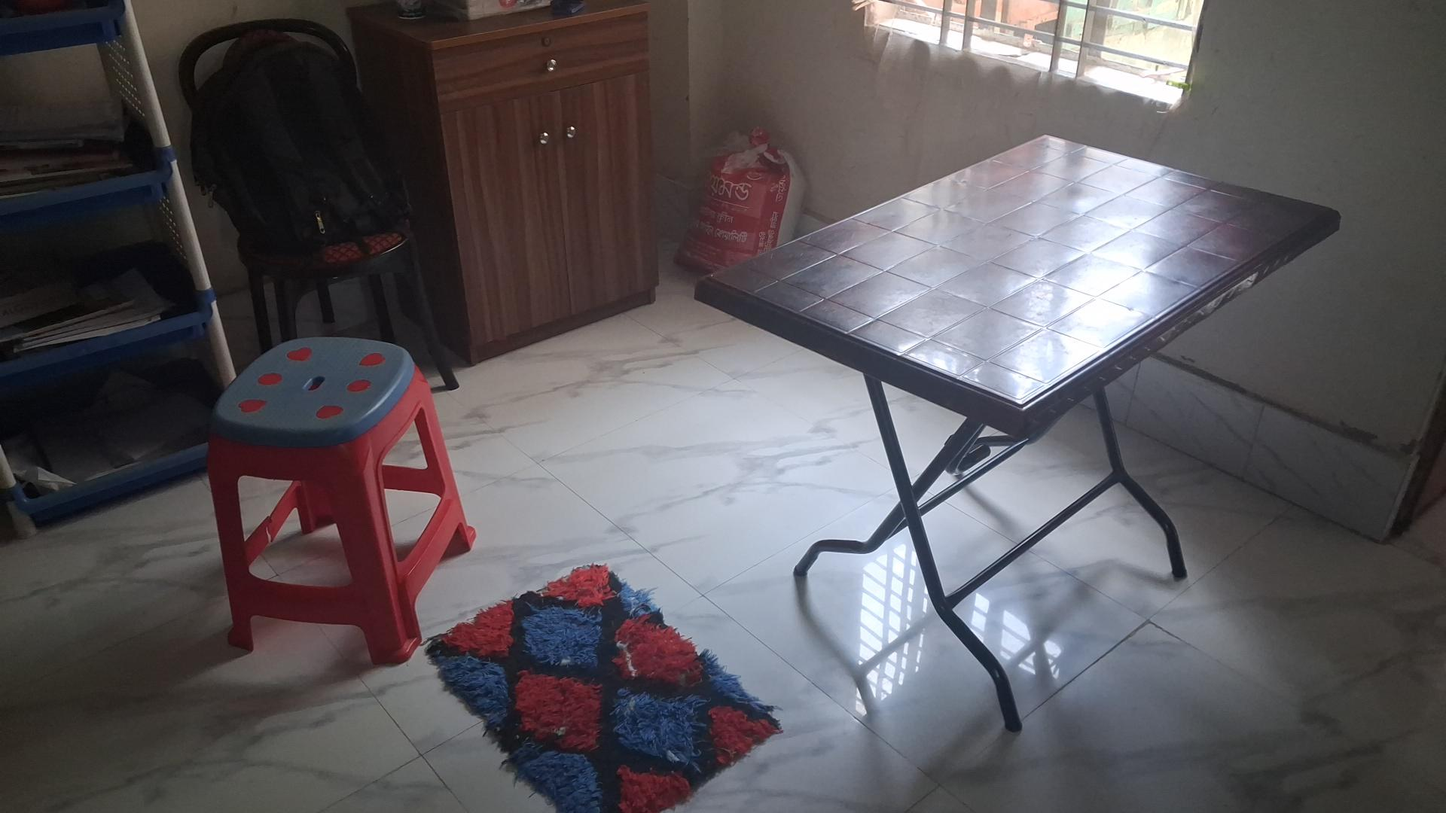Bag: (190, 35, 398, 238), (688, 125, 812, 273)
Chair: (178, 17, 462, 391)
Floor Mat: (431, 564, 784, 813)
Rack: (0, 5, 244, 515)
Stool: (209, 339, 479, 659)
Table: (693, 126, 1338, 738)
